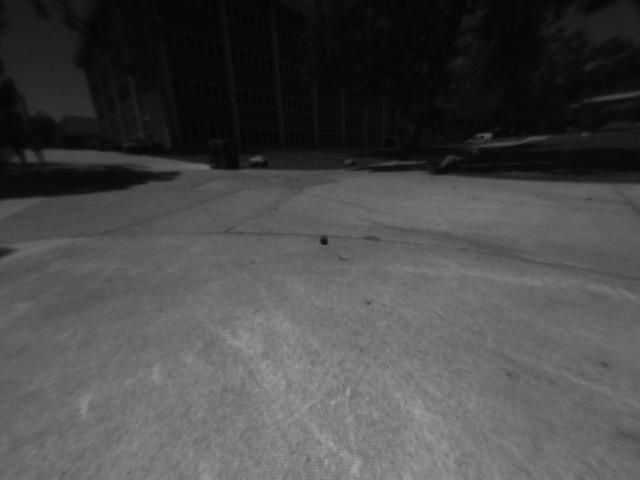dogtoy: (314, 232, 334, 248)
